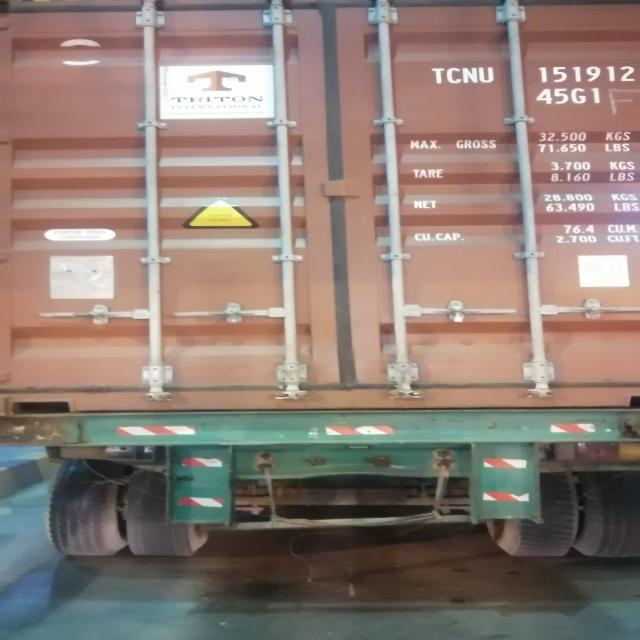seal: (451, 306, 466, 326)
